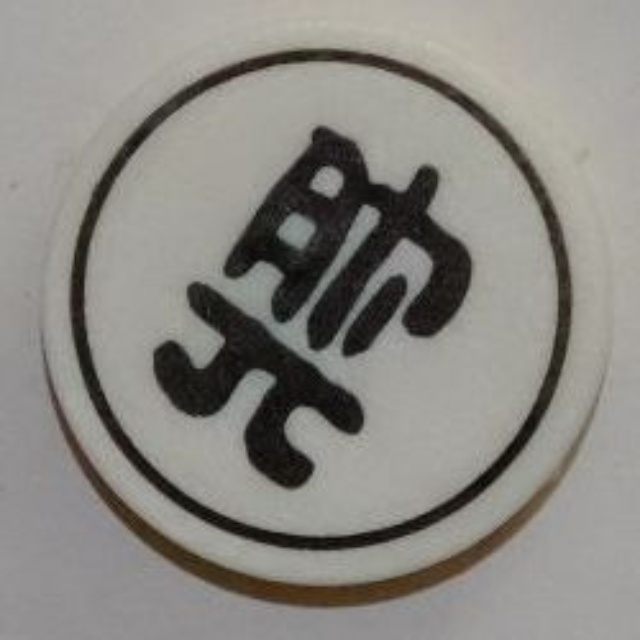black_tuong: (40, 23, 620, 598)
